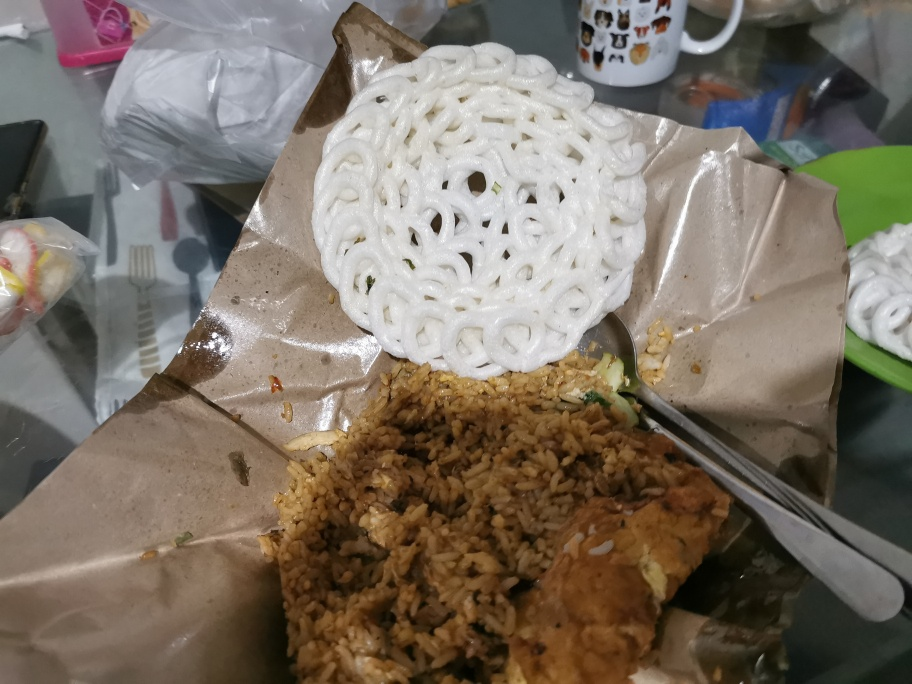kerupuk: (313, 44, 647, 363)
nasi goreng: (267, 369, 722, 684)
